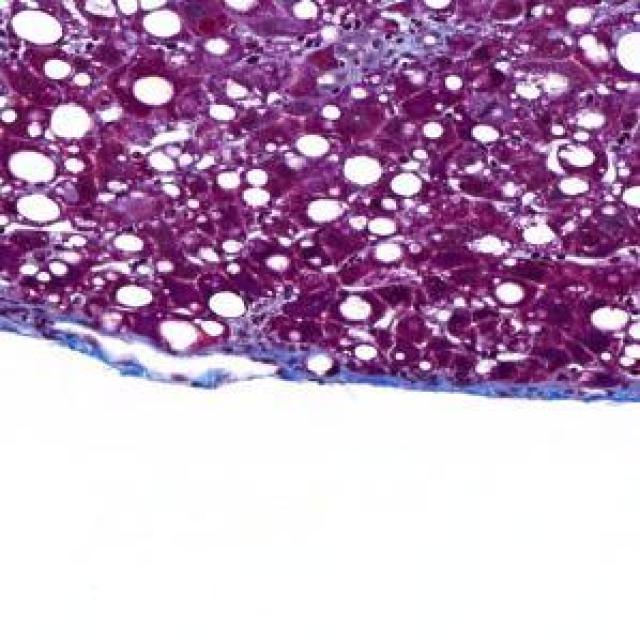fibrosis: (332, 17, 452, 92)
